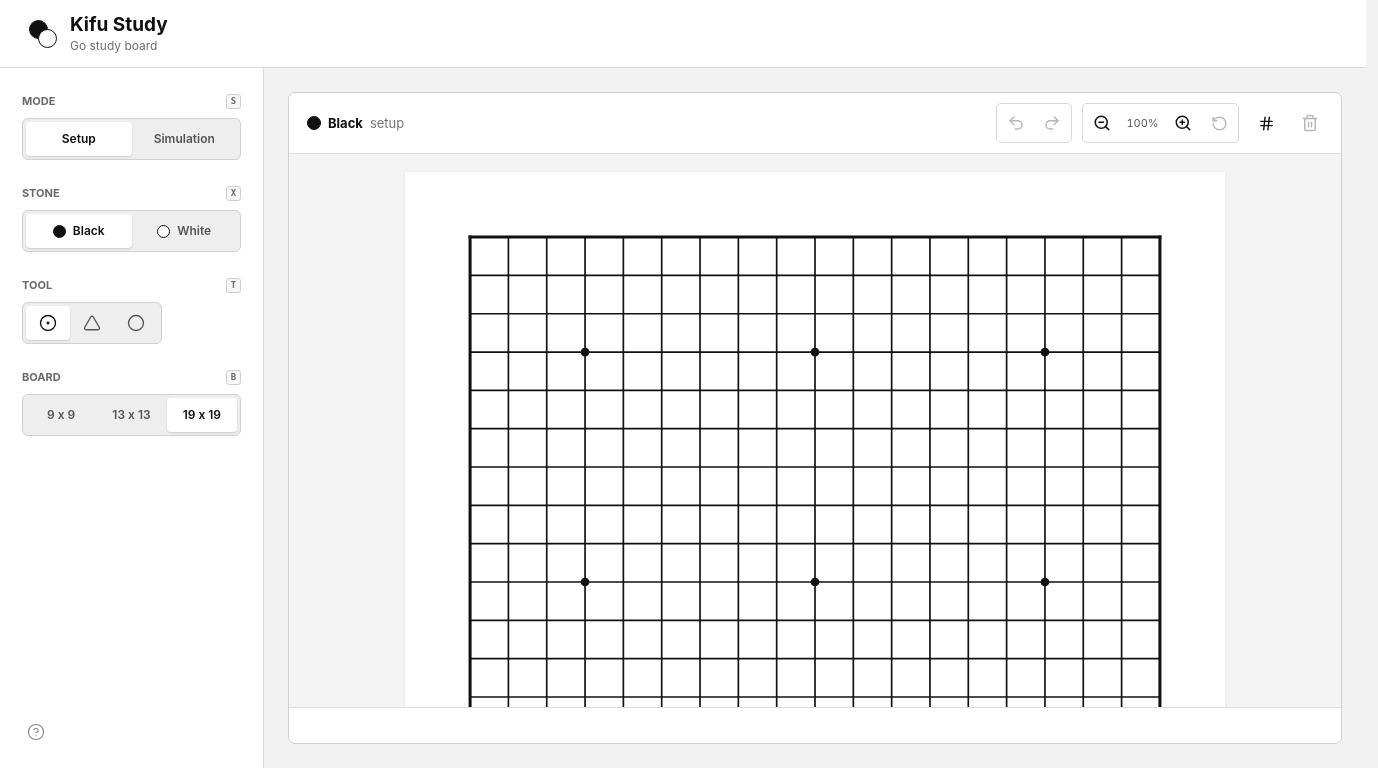
Test case: board controls › steps through every zoom level and resets zoom
Expected: the text "100%" is shown, [1126, 116, 1159, 130]
Expected: the button named "Reset zoom" is disabled, [1202, 106, 1236, 140]
Click the button named "Zoom out" at (1102,123), box [1085, 106, 1119, 140]
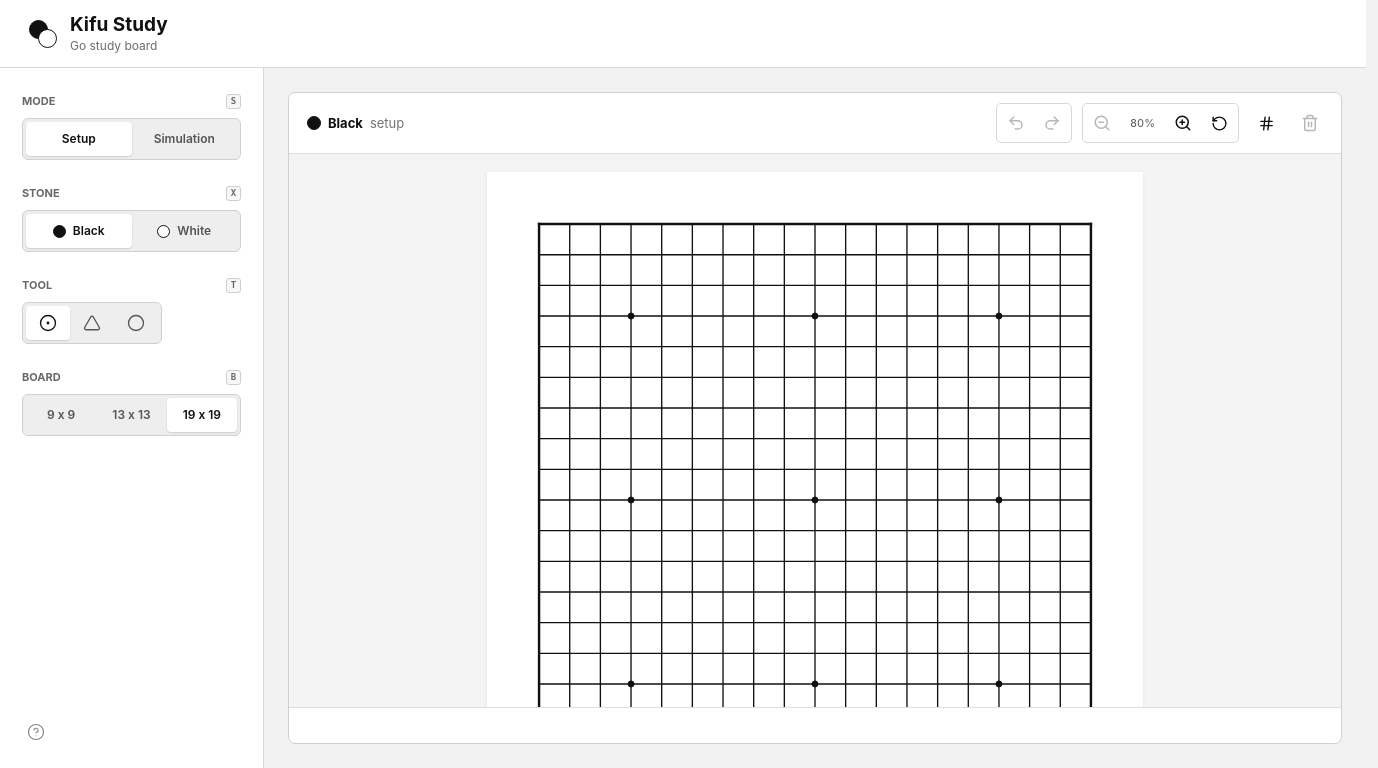
Expected: the text "80%" is shown, [1130, 116, 1155, 130]
Expected: the button named "Zoom out" is disabled, [1085, 106, 1119, 140]
Click the button named "Zoom in" at (1183,123), box [1166, 106, 1200, 140]
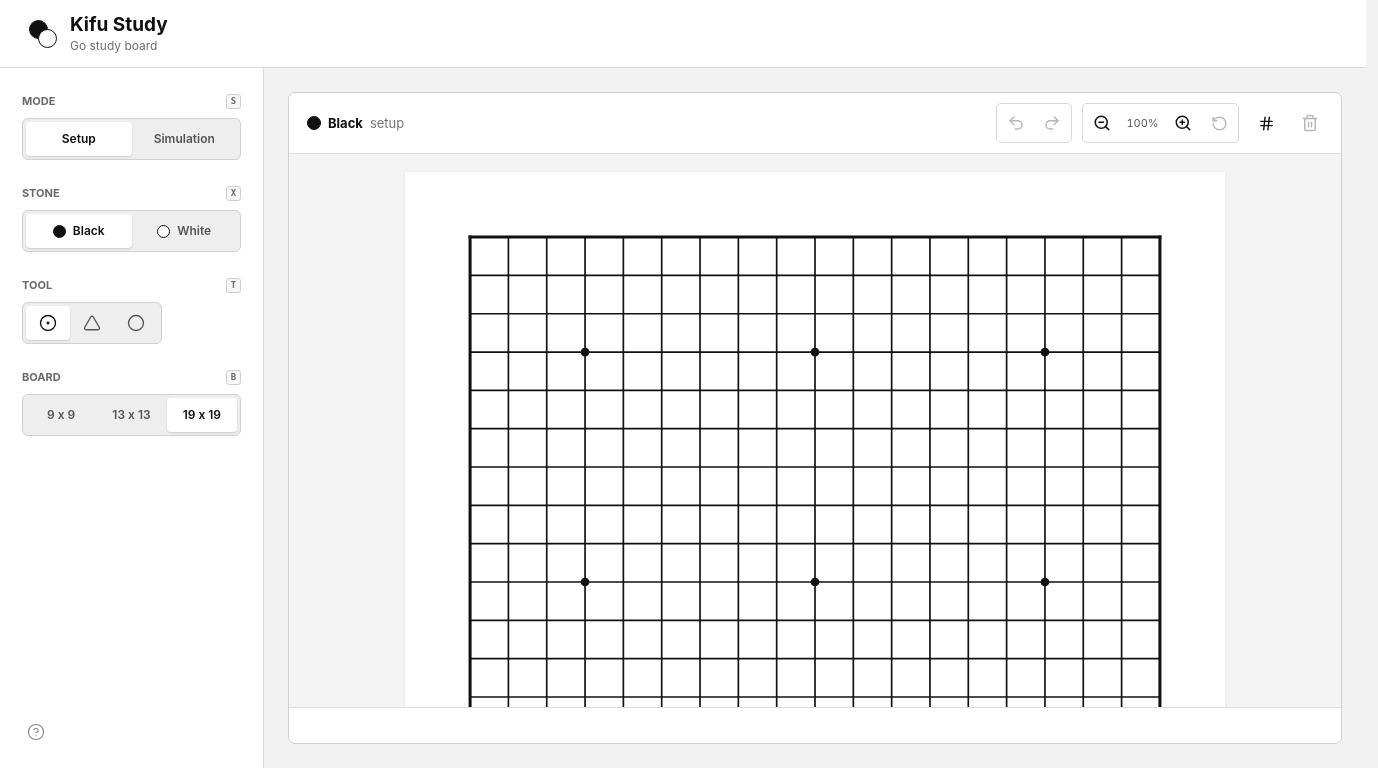
Click the button named "Zoom in" at (1183,123), box [1166, 106, 1200, 140]
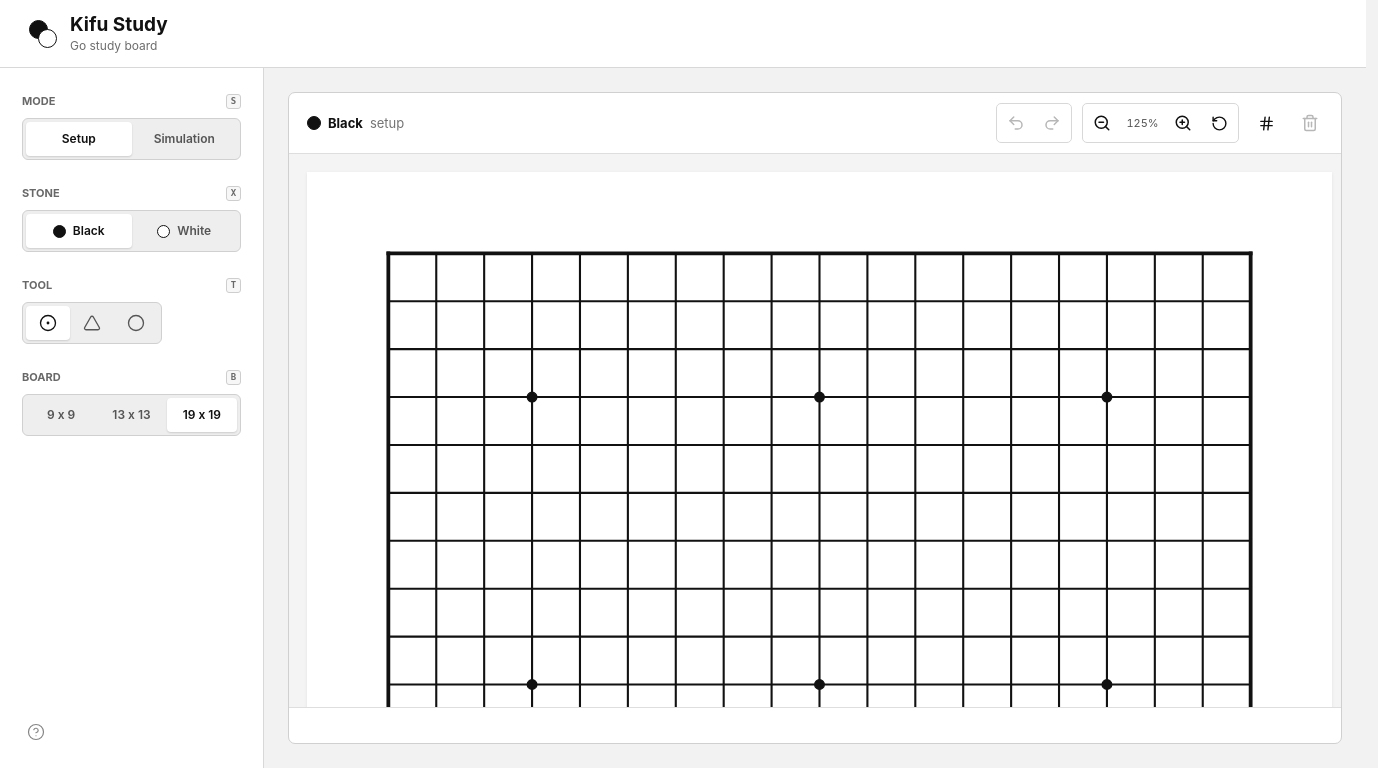
Click the button named "Zoom in" at (1183,123), box [1166, 106, 1200, 140]
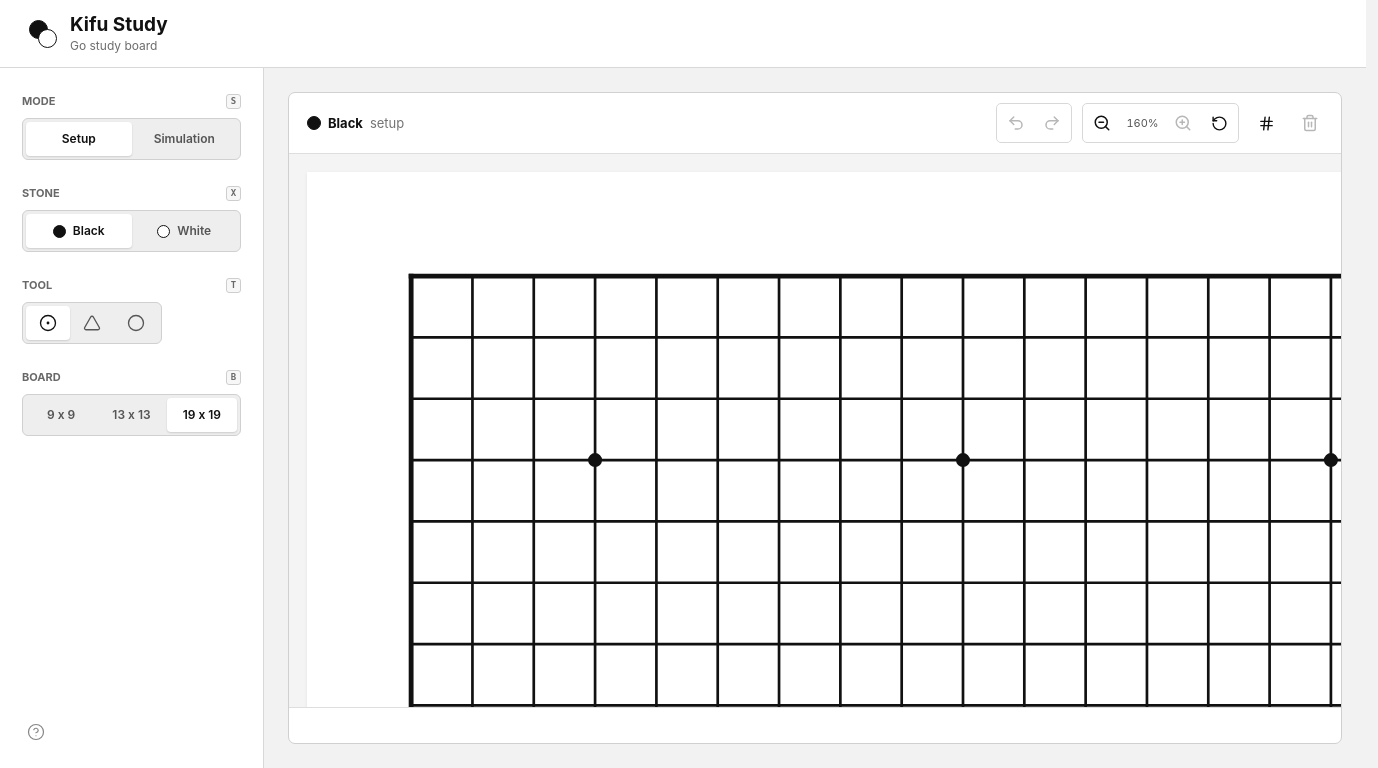
Expected: the text "160%" is shown, [1126, 116, 1159, 130]
Expected: the button named "Zoom in" is disabled, [1166, 106, 1200, 140]
Click the button named "Reset zoom" at (1219,123), box [1202, 106, 1236, 140]
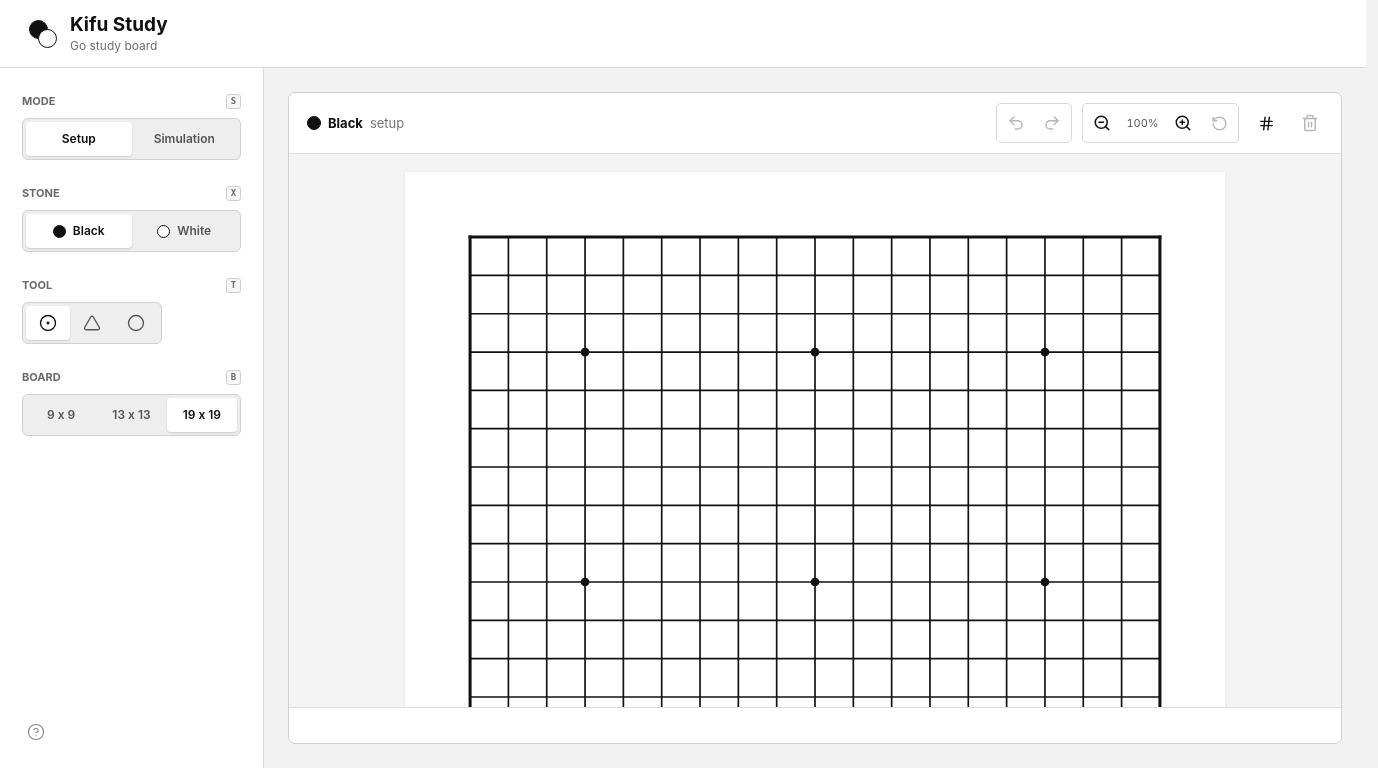
Expected: the text "100%" is shown, [1126, 116, 1159, 130]
Expected: the button named "Reset zoom" is disabled, [1202, 106, 1236, 140]
